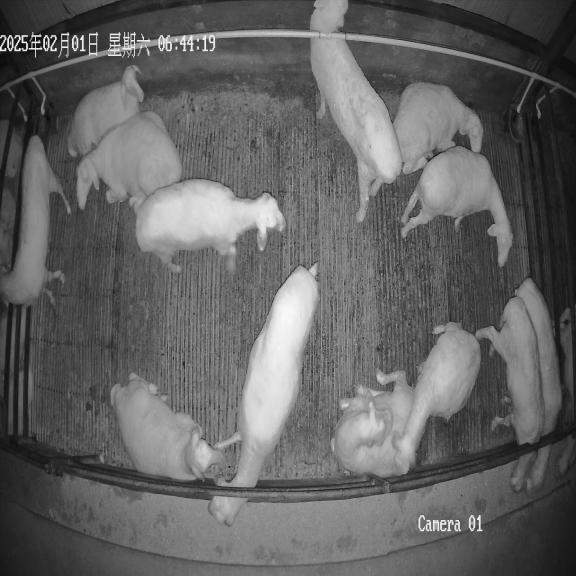eating: (475, 296, 545, 492), (515, 278, 562, 491)
lying: (393, 322, 481, 474), (110, 374, 234, 481), (76, 111, 182, 209), (330, 370, 414, 478), (393, 82, 483, 174), (67, 65, 144, 157)
stand: (208, 262, 319, 526), (310, 0, 402, 222), (135, 179, 286, 275), (401, 146, 513, 266), (0, 136, 71, 306)
